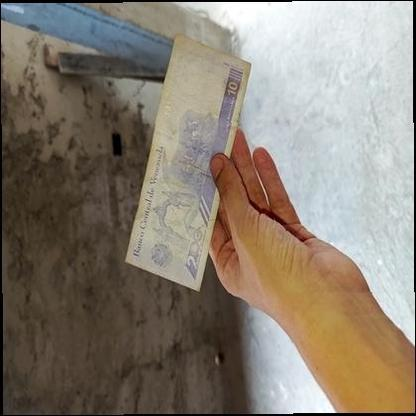ten-back-vef: (124, 32, 250, 292)
